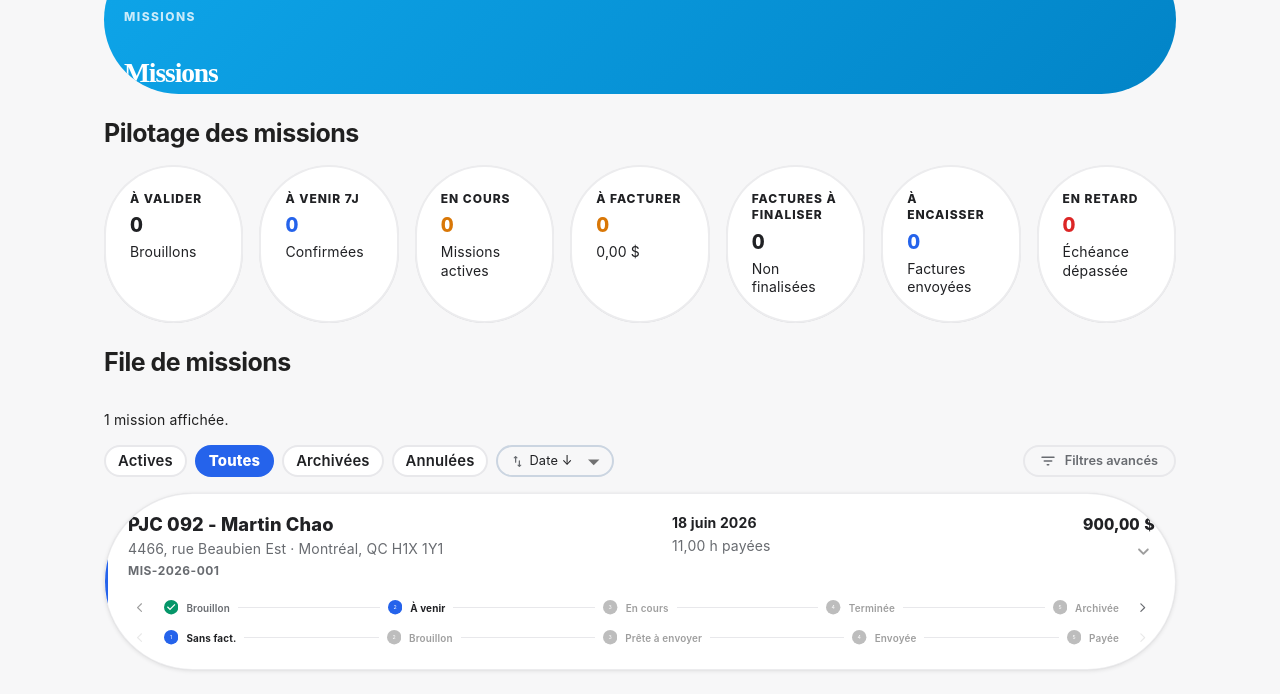
Test: MissionsPage render › shows ICS action in the mission detail drawer
(page scrolled)
Click the button "PJC 092 - Martin Chao" at (640, 582), box [105,494,1175,669]
(page scrolled)
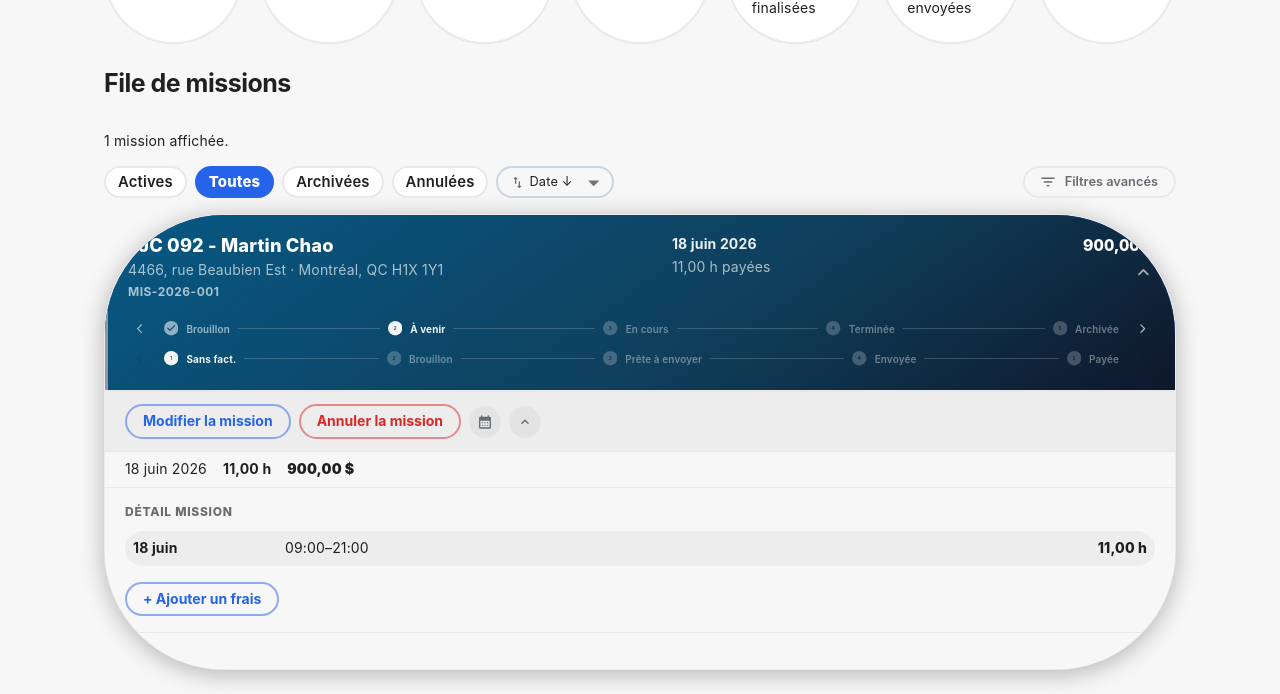
Expected: the button named "Télécharger le calendrier ICS" is shown, [469,406,501,438]
